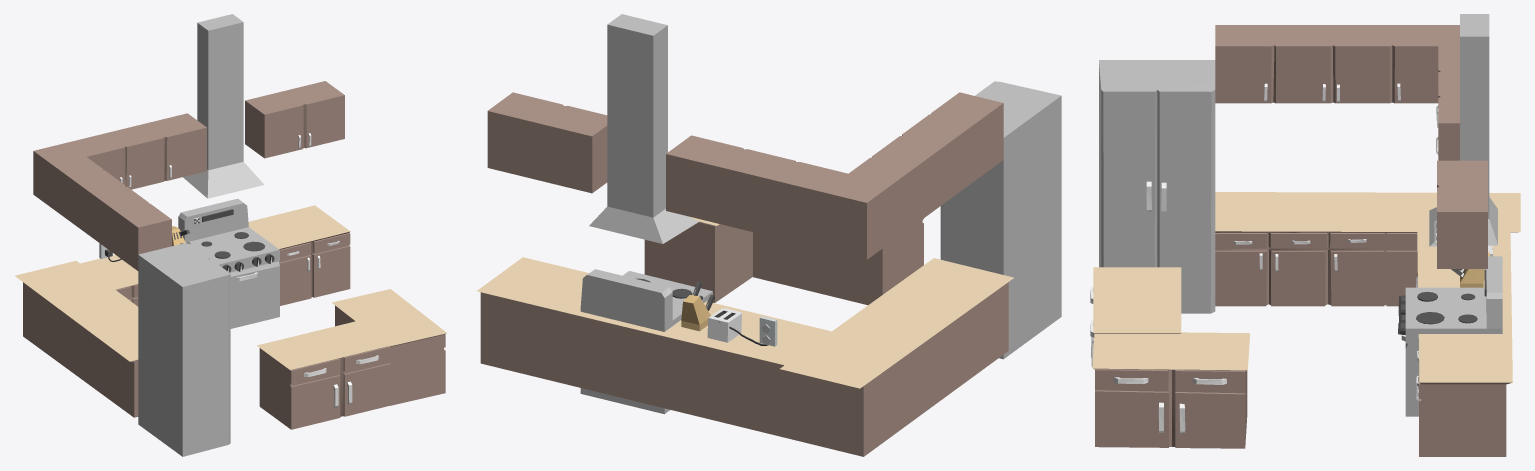
3 renders of one model, left to right at view 1: azimuth 30°, elevation 25°; view 2: azimuth 150°, elevation 25°; view 3: azimuth 270°, elevation 25°, orthographic. The views are drawn at different scales.
Visible parts, largest first — view 1: mesh536980032, mesh1913738476, mesh1348253054, mesh2142097961, mesh1000109285, mesh1142142446, mesh1348253054_001, mesh1955243732, mesh900006215, mesh384672652; view 2: mesh1142142446, mesh1913738476, mesh536980032, mesh2142097961, mesh1000109285, mesh1955243732, mesh384672652, mesh1348253054, mesh1348253054_001, mesh900006215, mesh458791, mesh246424301; view 3: mesh536980032, mesh1913738476, mesh2142097961, mesh1348253054_001, mesh1142142446, mesh1348253054, mesh900006215, mesh384672652, mesh1000109285, mesh1955243732, mesh246424301.
Boxes of the visible parts, bbox=[...] form: mesh536980032: bbox=[138, 243, 230, 456]; mesh1913738476: bbox=[15, 260, 138, 417]; mesh1348253054: bbox=[257, 320, 392, 429]; mesh2142097961: bbox=[33, 142, 171, 270]; mesh1000109285: bbox=[183, 14, 264, 198]; mesh1142142446: bbox=[80, 205, 350, 306]; mesh1348253054_001: bbox=[332, 289, 446, 405]; mesh1955243732: bbox=[67, 113, 206, 189]; mesh900006215: bbox=[178, 198, 279, 328]; mesh384672652: bbox=[245, 81, 344, 158]; mesh1142142446: bbox=[476, 257, 848, 438]; mesh1913738476: bbox=[780, 258, 1013, 456]; mesh536980032: bbox=[940, 81, 1061, 359]; mesh2142097961: bbox=[823, 92, 1003, 259]; mesh1000109285: bbox=[589, 14, 698, 243]; mesh1955243732: bbox=[666, 135, 847, 248]; mesh384672652: bbox=[487, 92, 607, 193]; mesh1348253054: bbox=[753, 218, 923, 304]; mesh1348253054_001: bbox=[644, 216, 752, 302]; mesh900006215: bbox=[580, 269, 712, 414]; mesh458791: bbox=[707, 308, 741, 342]; mesh246424301: bbox=[681, 295, 710, 331]; mesh536980032: bbox=[1099, 60, 1215, 313]; mesh1913738476: bbox=[1215, 192, 1520, 306]; mesh2142097961: bbox=[1215, 25, 1459, 103]; mesh1348253054_001: bbox=[1092, 332, 1249, 448]; mesh1142142446: bbox=[1417, 223, 1512, 456]; mesh1348253054: bbox=[1093, 267, 1181, 333]; mesh900006215: bbox=[1405, 256, 1502, 416]; mesh384672652: bbox=[1437, 160, 1487, 268]; mesh1000109285: bbox=[1429, 14, 1497, 246]; mesh1955243732: bbox=[1438, 46, 1459, 160]; mesh246424301: bbox=[1460, 252, 1489, 287].
Bounding box in the file's own units: 1.87 × 1.78 × 1.7.
